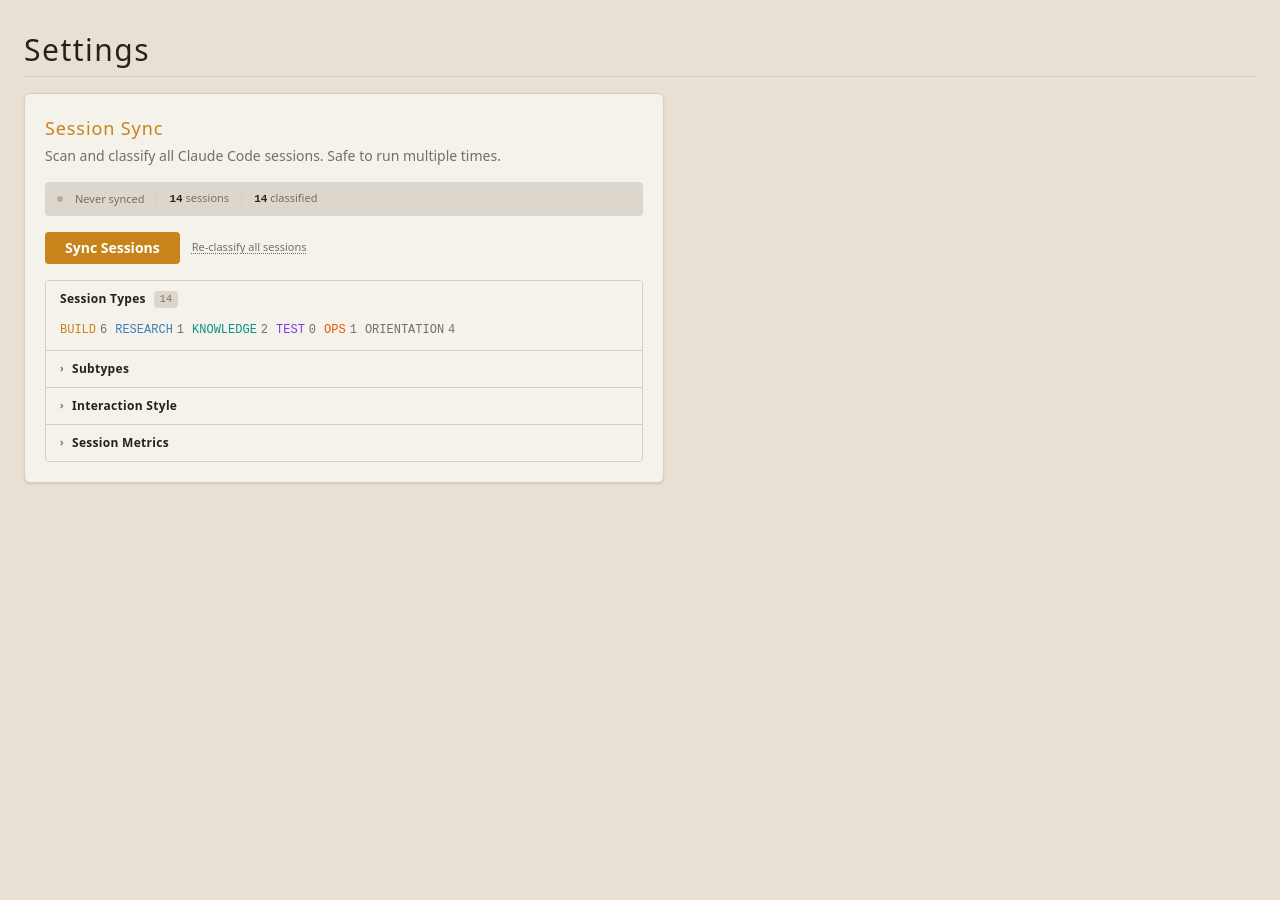
SettingsView › renders field stats inside expanded accordion section
Check: the text "sessions" is shown, box [186,190,229,205]
# Expand "Interaction Style" which contains delegation_style
What coordinates should you click on to do the following:
click the text "Interaction Style"
I would click on:
 (125, 406)
Its box is [72,398,177,414].
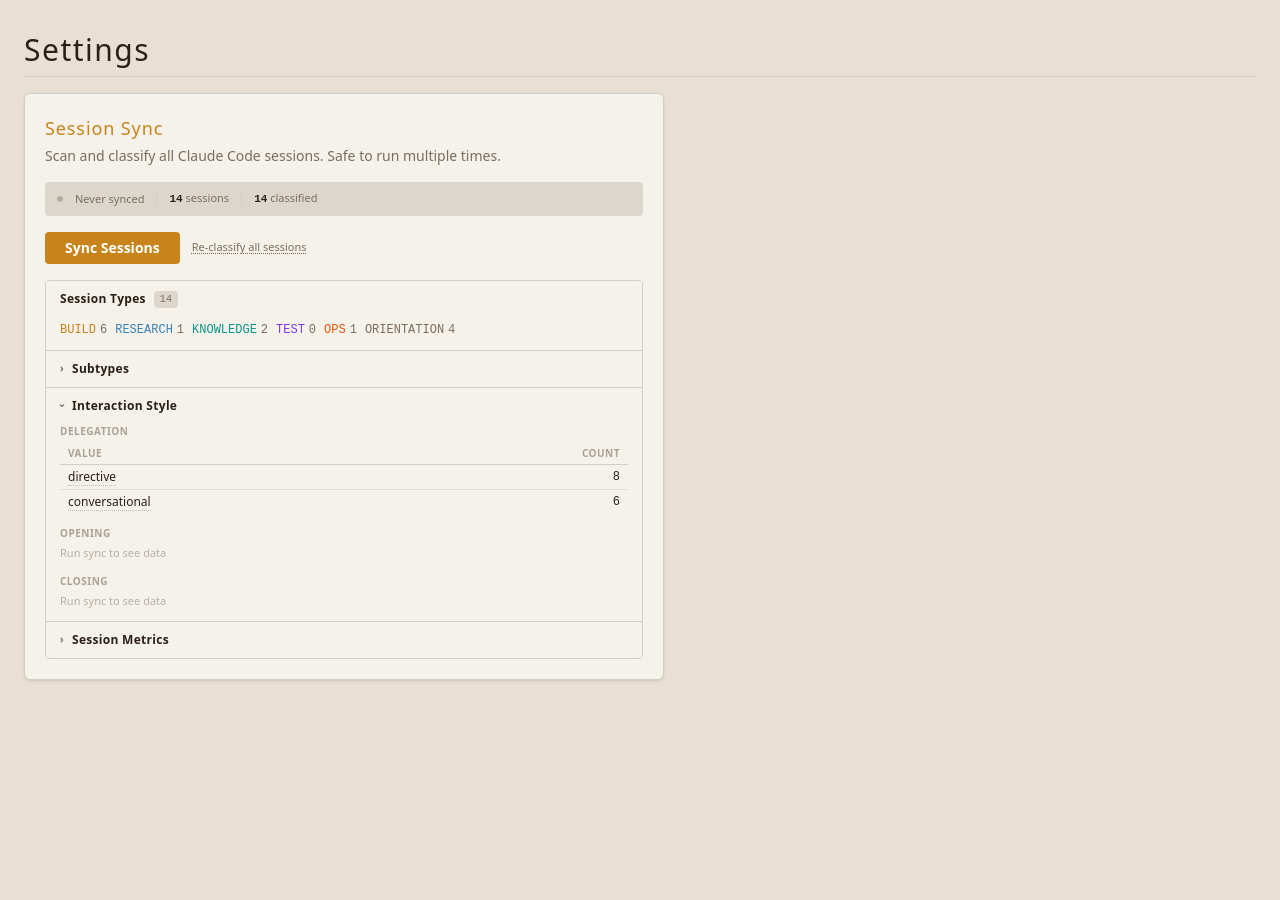
Check: the text "conversational" is shown, box [68,493,151,511]
Check: the text "directive" is shown, box [68,468,116,486]
